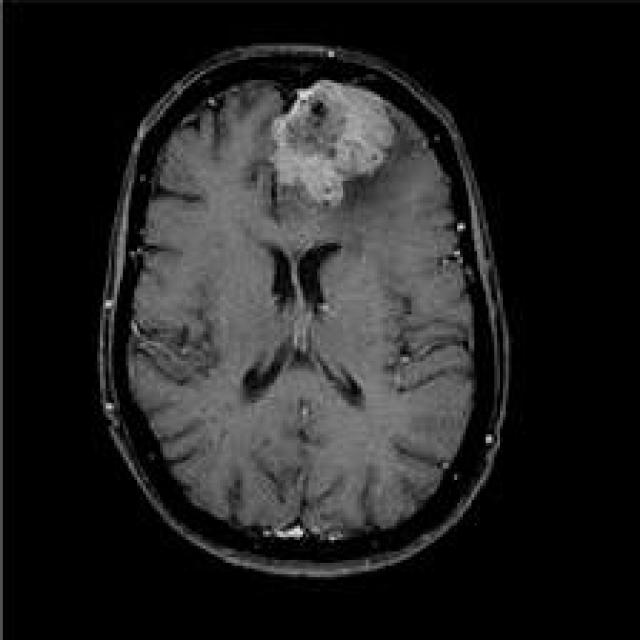meningioma_tumor: (261, 73, 414, 219)
